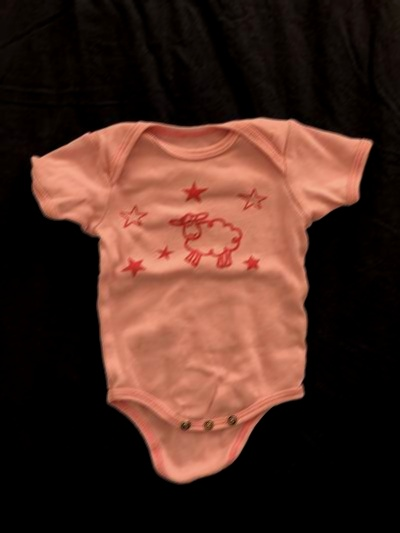Body: (21, 96, 379, 481)
